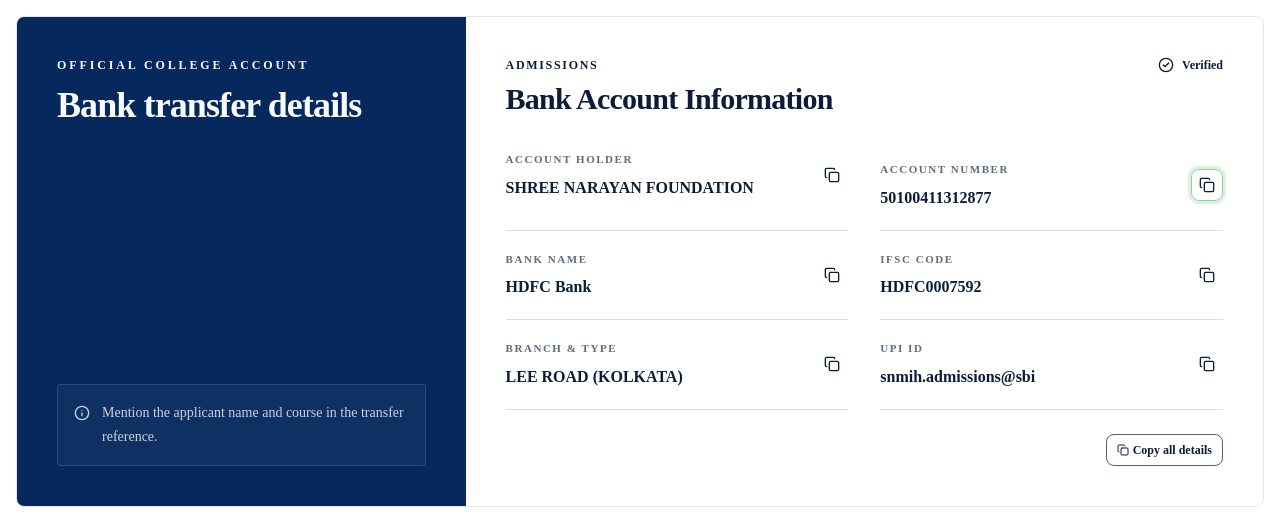
BankDetailsBlockComponent › announces unavailable clipboard access while keeping visible values
The image size is (1280, 524).
Click the button named "Copy account number" at (1207, 185), box [1191, 169, 1223, 201]
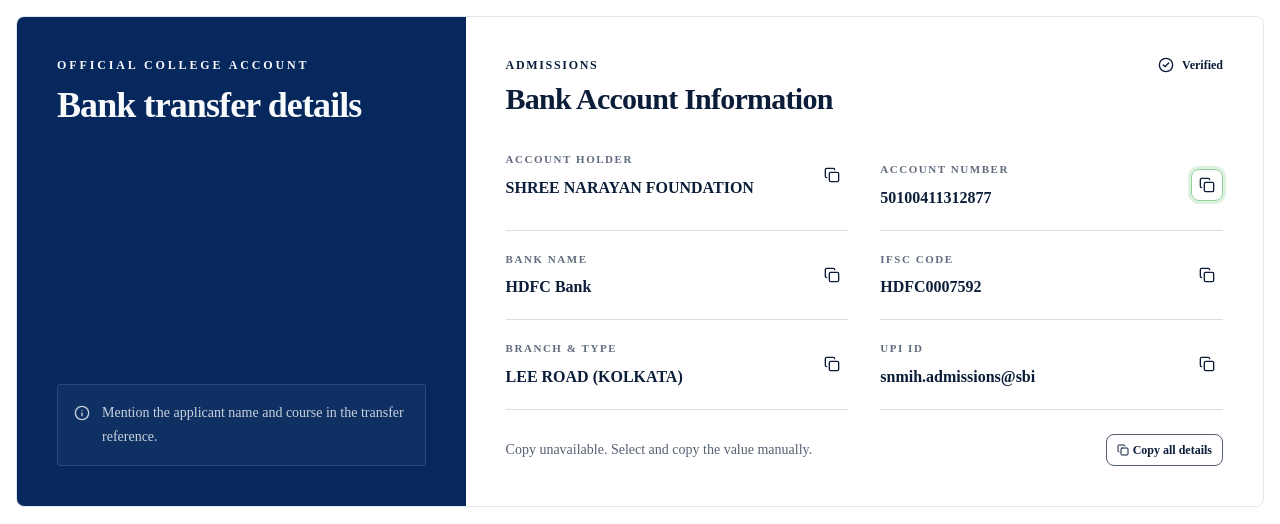
Expected: the text "50100411312877" is shown, [880, 188, 991, 206]
Now the message reads "Copy unavailable. Select and copy the value manually.", box [506, 442, 812, 456]
